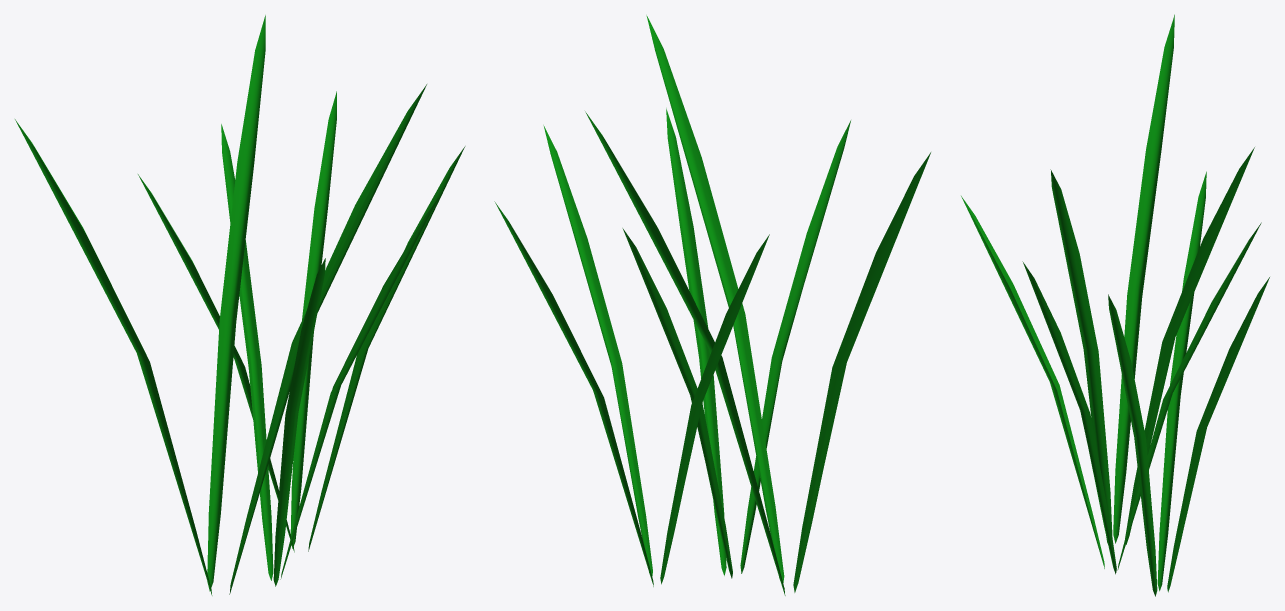
The model's file is tall grass.fbx.
The picture shows the model from 3 angles, left to right: view 1: azimuth 30°, elevation 25°; view 2: azimuth 150°, elevation 25°; view 3: azimuth 270°, elevation 25°; orthographic projection. The views are drawn at different scales.
Parts seen in each view (by area): view 1: Plane.024; view 2: Plane.024; view 3: Plane.024.
Boxes of the visible parts, x1,y1,x2,y2 form: Plane.024: [15, 15, 465, 595]; Plane.024: [494, 15, 930, 595]; Plane.024: [961, 14, 1269, 596].
Bounding box in the file's own units: 186 × 213 × 131.
